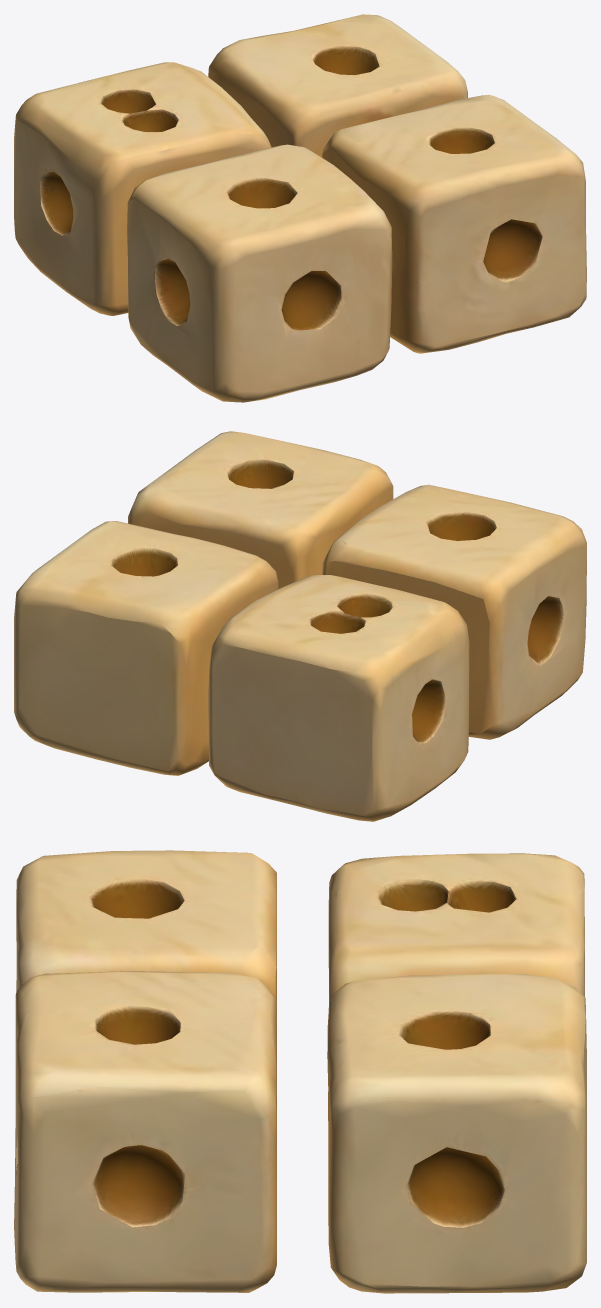
Rendered from m2ToyDomino.glb.
3 views of the same model, one above another, from view 1: azimuth 30°, elevation 25°; view 2: azimuth 150°, elevation 25°; view 3: azimuth 270°, elevation 25° (orthographic). The views are drawn at different scales.
Parts seen in each view (by area): view 1: model; view 2: model; view 3: model.
Part boxes in pixels (x1,y1,x2,y2): model: [14, 14, 586, 402]; model: [14, 431, 586, 821]; model: [14, 850, 586, 1293].
Bounding box in the file's own units: 1.91 × 0.8379 × 1.89.
1 material, 1 textured.
